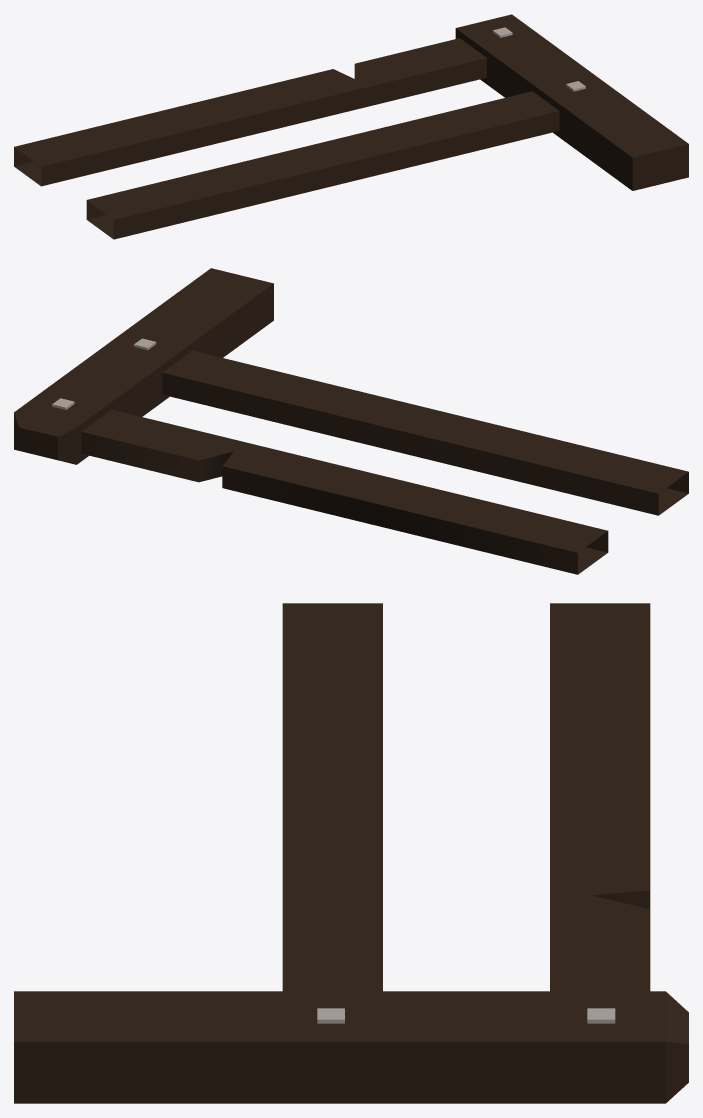
The model's file is Fence 01.FBX.
3 views of the same model, one above another, from view 1: azimuth 30°, elevation 25°; view 2: azimuth 150°, elevation 25°; view 3: azimuth 270°, elevation 25° (orthographic). The views are drawn at different scales.
Visible parts, largest first — view 1: Fence 01; view 2: Fence 01; view 3: Fence 01.
Boxes of the visible parts, box(x1,y1,x2,y2) form: Fence 01: box(14, 14, 688, 239); Fence 01: box(14, 268, 688, 574); Fence 01: box(14, 603, 688, 1103).
Bounding box in the file's own units: 132 × 83.75 × 9.68.
